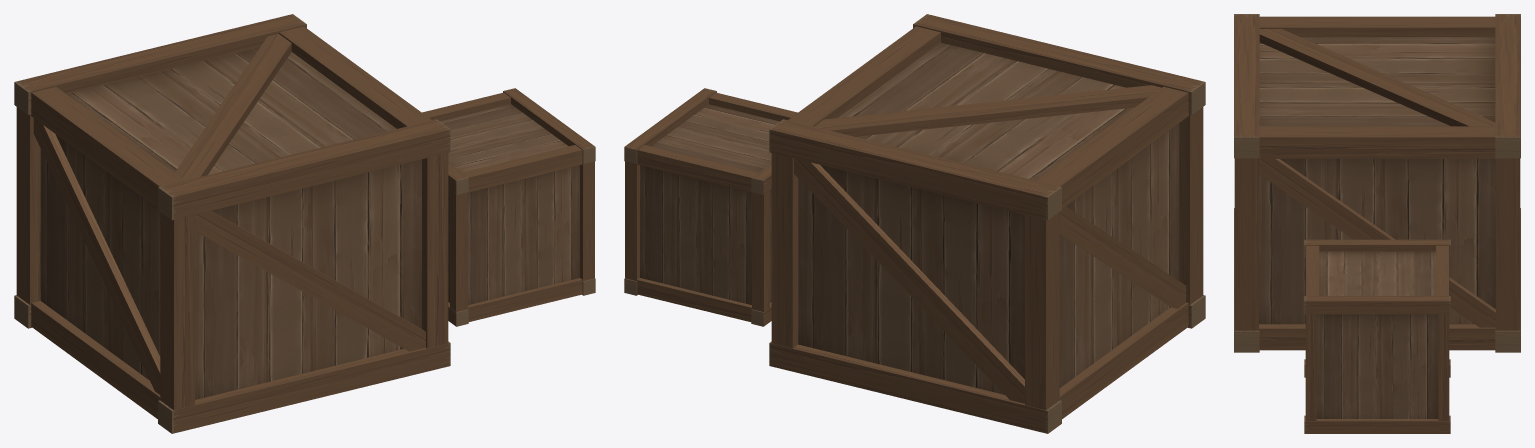
File: WoodBox.fbx
3 views of the same model, side by side, from view 1: azimuth 30°, elevation 25°; view 2: azimuth 150°, elevation 25°; view 3: azimuth 270°, elevation 25° (orthographic). The views are drawn at different scales.
Visible parts, largest first — view 1: WoodBox_L, WoodBox_S; view 2: WoodBox_L, WoodBox_S; view 3: WoodBox_L, WoodBox_S.
Part boxes in pixels (box(x1,y1,x2,y2)): WoodBox_L: box(14, 14, 450, 433); WoodBox_S: box(422, 88, 595, 326); WoodBox_L: box(769, 14, 1205, 433); WoodBox_S: box(624, 88, 797, 326); WoodBox_L: box(1234, 14, 1520, 352); WoodBox_S: box(1304, 239, 1450, 433).
Size of the model in its own units: 183 by 108 by 89.16.
